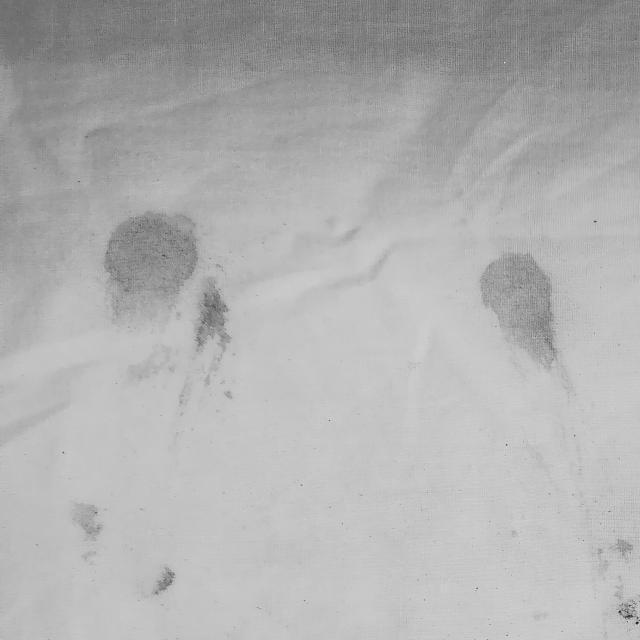Hole: (66, 180, 262, 426), (456, 222, 588, 394), (54, 487, 190, 605)
